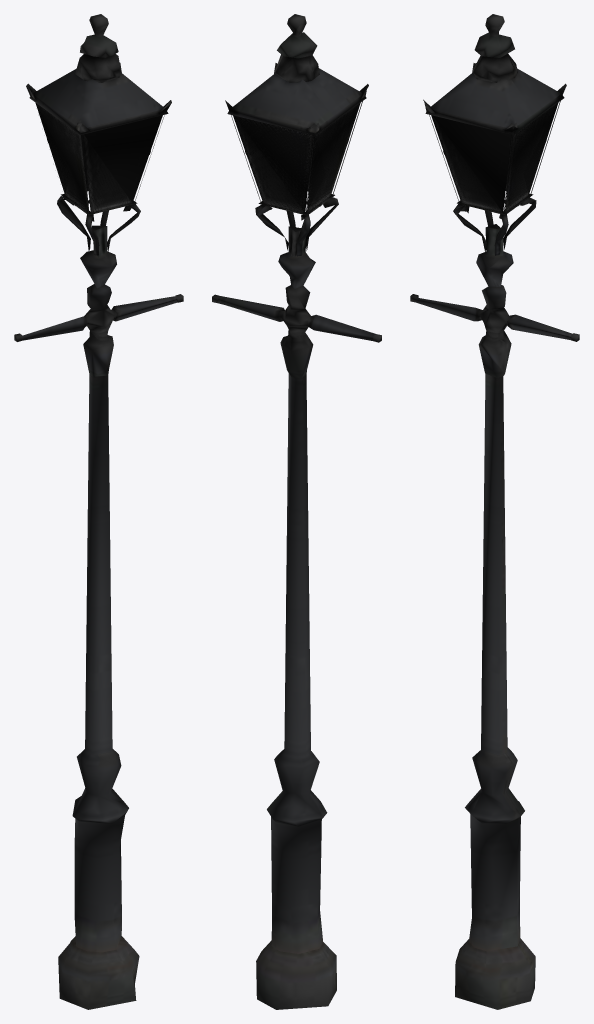
Rendered from street_lamp_01.glb.
The picture shows the model from 3 angles, left to right: view 1: azimuth 30°, elevation 25°; view 2: azimuth 150°, elevation 25°; view 3: azimuth 330°, elevation 25°; orthographic projection.
Visible parts, largest first — view 1: street_lamp_01; view 2: street_lamp_01; view 3: street_lamp_01.
Boxes of the visible parts, x1,y1,x2,y2 form: street_lamp_01: [14, 14, 183, 1009]; street_lamp_01: [212, 14, 381, 1009]; street_lamp_01: [410, 14, 579, 1009].
Bounding box in the file's own units: 0.689 × 3.86 × 0.3864.
Materials: 2 (2 with a texture image).
